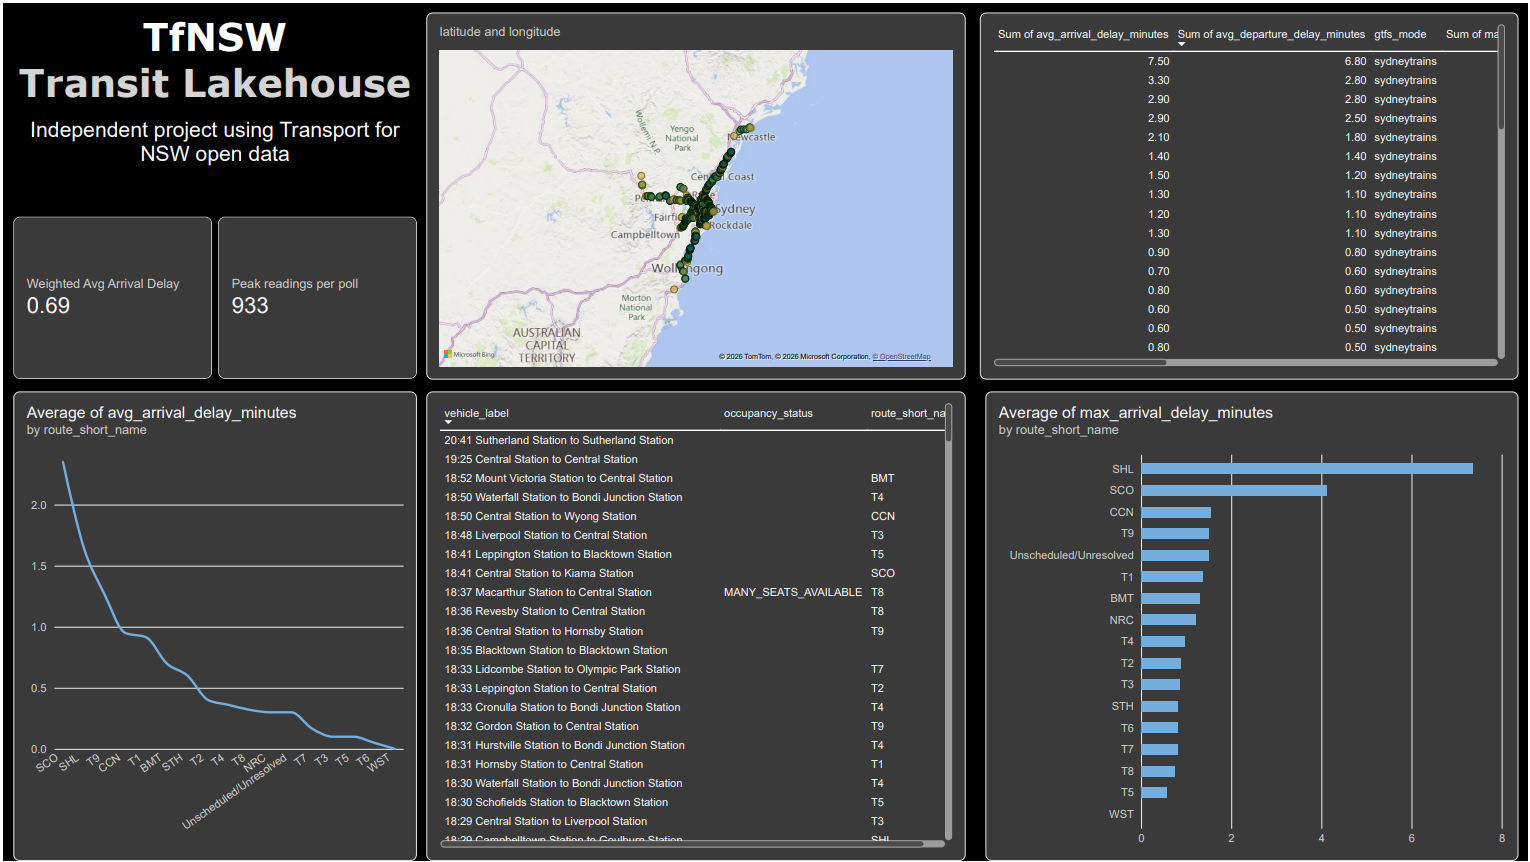

Layout of this report page (visuals, bound fields, positions):
{"tool":"powerbi","page":{"name":"Page 1","canvas":[1920,1080],"ordinal":0},"visuals":[{"type":"barChart","fields":{"Category":["gold_route_delay_summary_v.route_short_name"],"Y":["Avg(gold_route_delay_summary_v.max_arrival_delay_minutes)"]},"box":[1236.9,489.1,671.5,591.3],"z":0},{"type":"cardVisual","fields":{"Data":["gold_route_delay_summary_v.Weighted Avg Arrival Delay (min)","Max(gold_route_delay_summary_v.reading_count)"]},"box":[12.9,269.1,508.5,204.4],"z":1000},{"type":"map","fields":{"X":["gold_vehicle_positions_enriched.longitude"],"Y":["gold_vehicle_positions_enriched.latitude"]},"box":[533,11.6,679.2,461.9],"z":2000},{"type":"lineChart","fields":{"Category":["gold_route_delay_summary_v.route_short_name"],"Y":["Avg(gold_route_delay_summary_v.avg_arrival_delay_minutes)"]},"box":[12.9,489.1,508.5,591.3],"z":3000},{"type":"tableEx","fields":{"Values":["Sum(gold_route_delay_summary_v.avg_arrival_delay_minutes)","Sum(gold_route_delay_summary_v.avg_departure_delay_minutes)","gold_route_delay_summary_v.gtfs_mode","Sum(gold_route_delay_summary_v.max_arrival_delay_minutes)","gold_route_delay_summary_v.poll_hour.Variation.Date Hierarchy.Year","gold_route_delay_summary_v.poll_hour.Variation.Date Hierarchy.Quarter","gold_route_delay_summary_v.poll_hour.Variation.Date Hierarchy.Month","gold_route_delay_summary_v.poll_hour.Variation.Date Hierarchy.Day","Sum(gold_route_delay_summary_v.reading_count)","gold_route_delay_summary_v.route_id","gold_route_delay_summary_v.route_long_name","gold_route_delay_summary_v.route_short_name"]},"box":[1230.4,11.6,678,461.9],"z":4000},{"type":"tableEx","fields":{"Values":["gold_vehicle_positions_enriched.vehicle_label","gold_vehicle_positions_enriched.occupancy_status","gold_vehicle_positions_enriched.route_short_name"]},"box":[533,489.1,679.2,591.3],"z":5000},{"type":"textbox","box":[13,12,508,257],"z":6000}]}

Visuals, with their boxes in screenshot pixels (x1, y1, x2, y2), scaled from the page's 1920x1080 canvas onto the 1530x862 screenshot:
barChart - gold_route_delay_summary_v.route_short_name x Avg(gold_route_delay_summary_v.max_arrival_delay_minutes): 986 390 1521 861
cardVisual - gold_route_delay_summary_v.Weighted Avg Arrival Delay (min) x Max(gold_route_delay_summary_v.reading_count): 10 215 415 378
map - gold_vehicle_positions_enriched.longitude x gold_vehicle_positions_enriched.latitude: 425 9 966 378
lineChart - gold_route_delay_summary_v.route_short_name x Avg(gold_route_delay_summary_v.avg_arrival_delay_minutes): 10 390 415 861
tableEx - Sum(gold_route_delay_summary_v.avg_arrival_delay_minutes) x Sum(gold_route_delay_summary_v.avg_departure_delay_minutes): 980 9 1521 378
tableEx - gold_vehicle_positions_enriched.vehicle_label x gold_vehicle_positions_enriched.occupancy_status: 425 390 966 861
textbox: 10 10 415 215
